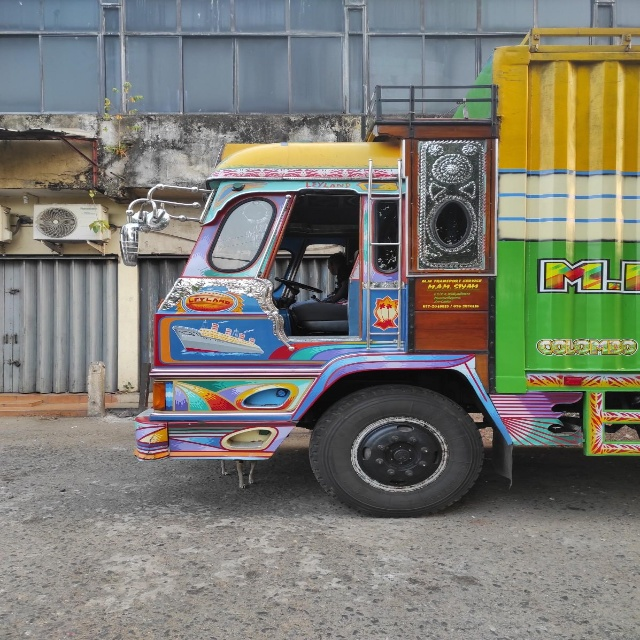Truck: (120, 28, 640, 520)
